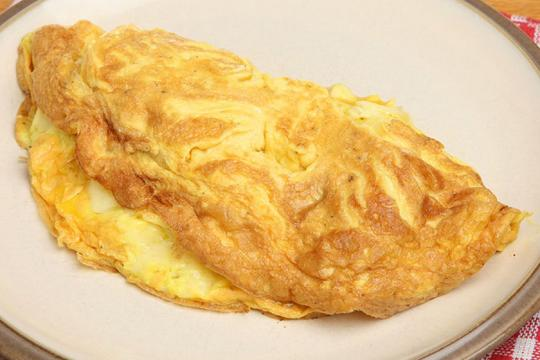Telur: (14, 25, 521, 343)
